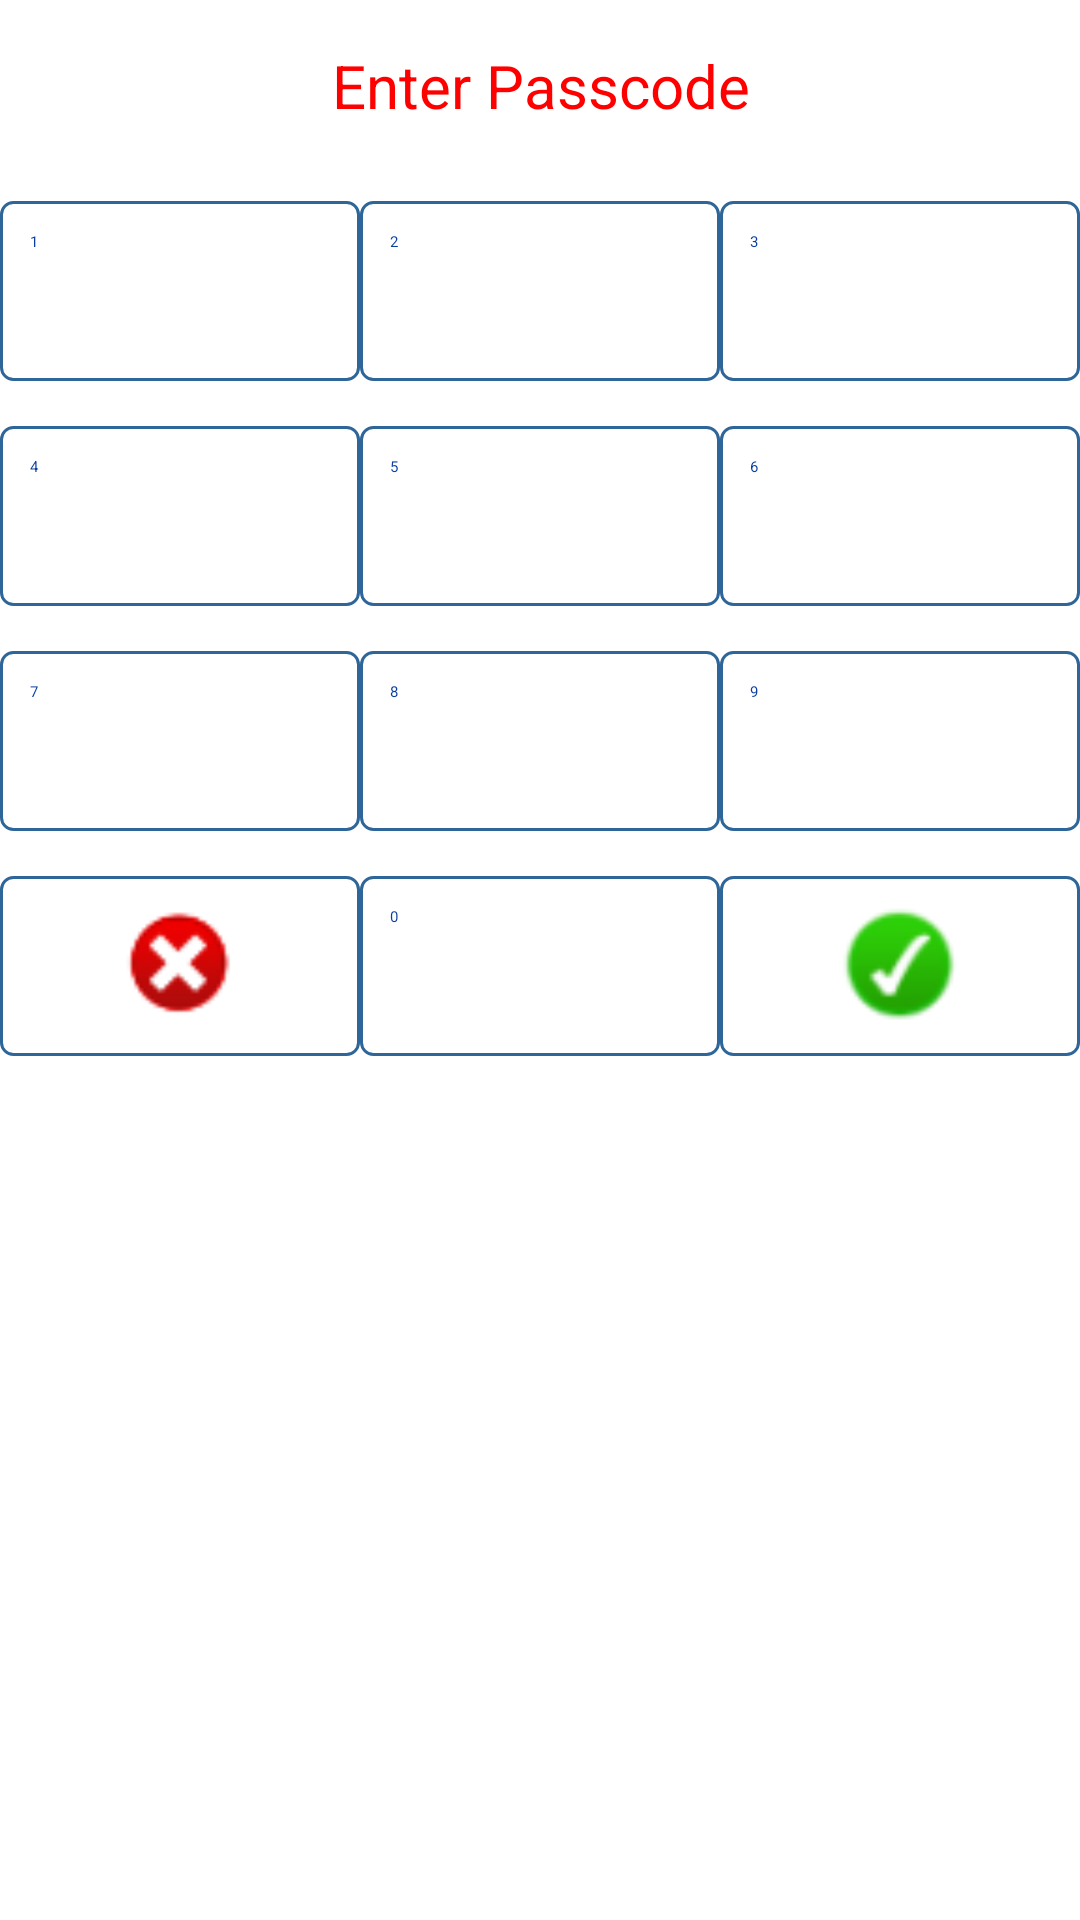

Where icons sit on this 1080x1920 app screen, as (x1, y1, x2, y2):
check: (845, 910, 954, 1019)
delete: (129, 912, 230, 1013)
